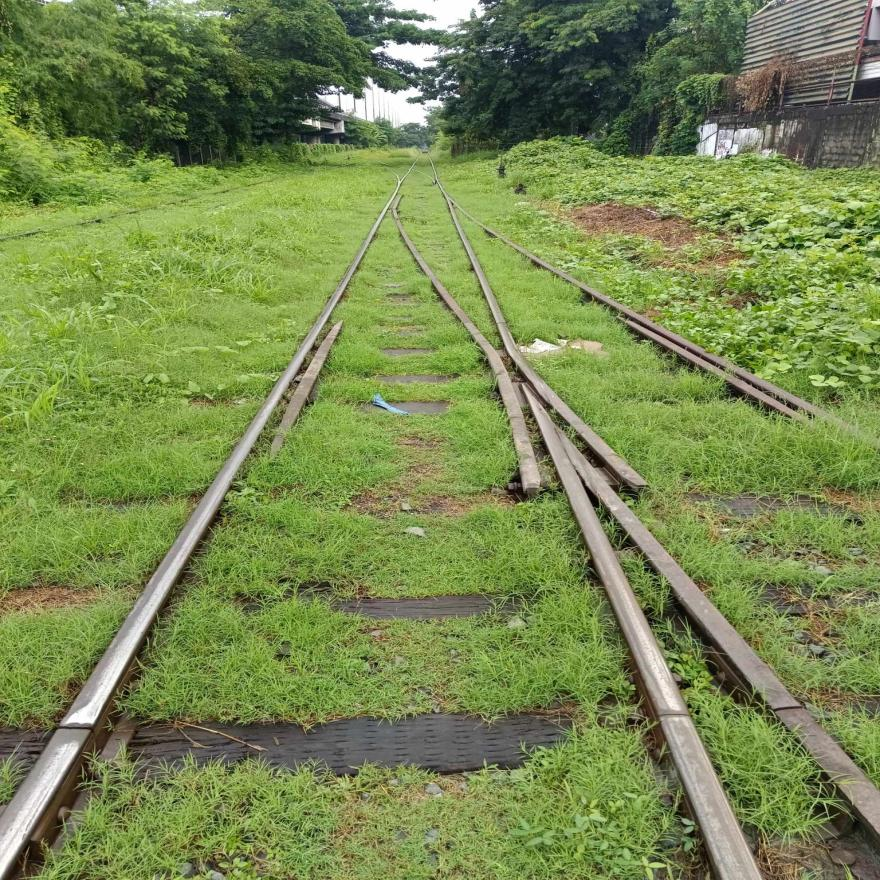railway-gap: (24, 692, 122, 764), (624, 683, 723, 752), (737, 675, 834, 743)
